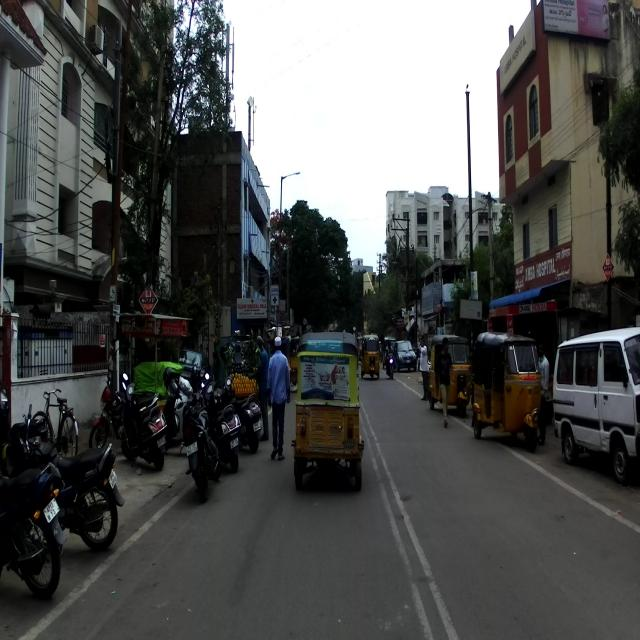Car_Maruti-Suzuki: (553, 322, 640, 482), (393, 338, 418, 372)
autorickshaw: (290, 331, 364, 494), (471, 331, 542, 452), (428, 336, 469, 416), (360, 335, 380, 381)
motorcycle_Hero: (0, 404, 120, 550)
motorcycle_Honda: (88, 374, 131, 452)
motorcycle_bajaj: (182, 385, 221, 501)
scooter: (118, 373, 166, 471), (199, 372, 242, 473), (162, 369, 208, 455), (218, 368, 262, 453)
